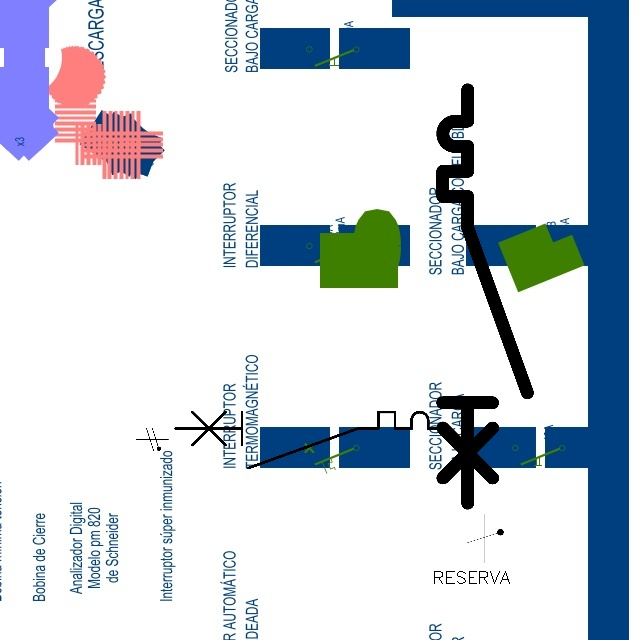interruptor_termomagnetico: (432, 79, 538, 514), (168, 405, 456, 475)
